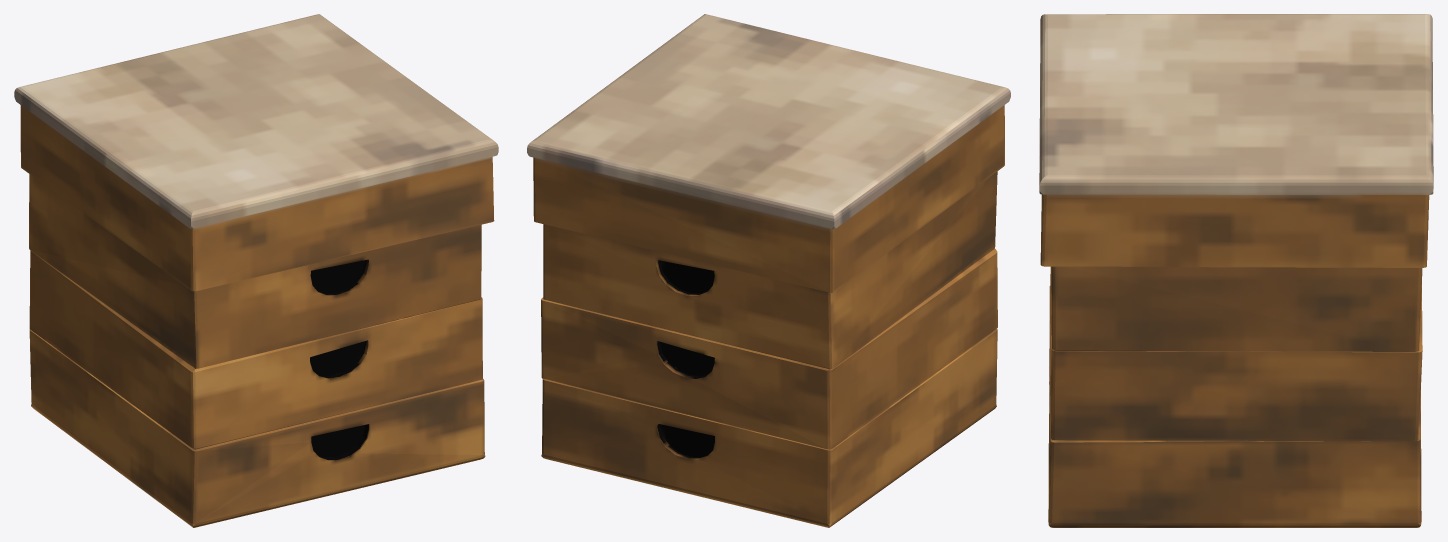
The model's file is Bee Box.fbx.
The picture shows the model from 3 angles, left to right: view 1: azimuth 30°, elevation 25°; view 2: azimuth 150°, elevation 25°; view 3: azimuth 270°, elevation 25°; orthographic projection. The views are drawn at different scales.
Visible parts, largest first — view 1: Cube; view 2: Cube; view 3: Cube.
Part boxes in pixels (x1,y1,x2,y2): Cube: [14, 14, 498, 527]; Cube: [527, 14, 1010, 527]; Cube: [1039, 14, 1433, 527].
Size of the model in its own units: 100 by 100 by 100.
1 material, 1 textured.
